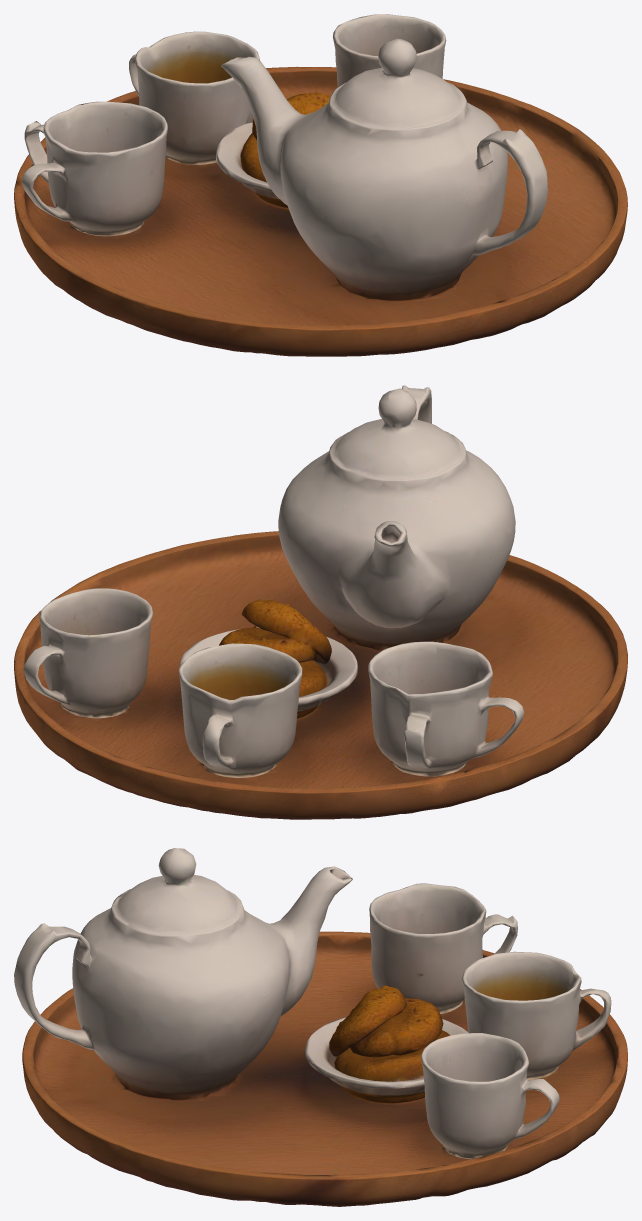
File: tea_tray.glb
3 renders of one model, top to bottom at view 1: azimuth 30°, elevation 25°; view 2: azimuth 150°, elevation 25°; view 3: azimuth 270°, elevation 25°, orthographic. The views are drawn at different scales.
Visible parts, largest first — view 1: tripo_node_72b98ddb-449b-47c3-a9b4-3ce4c9542d0e; view 2: tripo_node_72b98ddb-449b-47c3-a9b4-3ce4c9542d0e; view 3: tripo_node_72b98ddb-449b-47c3-a9b4-3ce4c9542d0e.
Boxes of the visible parts, x1=… form: tripo_node_72b98ddb-449b-47c3-a9b4-3ce4c9542d0e: x1=14, y1=14, x2=627, y2=356; tripo_node_72b98ddb-449b-47c3-a9b4-3ce4c9542d0e: x1=14, y1=385, x2=627, y2=819; tripo_node_72b98ddb-449b-47c3-a9b4-3ce4c9542d0e: x1=14, y1=848, x2=627, y2=1206.
Size of the model in its own units: 2.2 by 1 by 2.31.
1 material, 1 textured.
